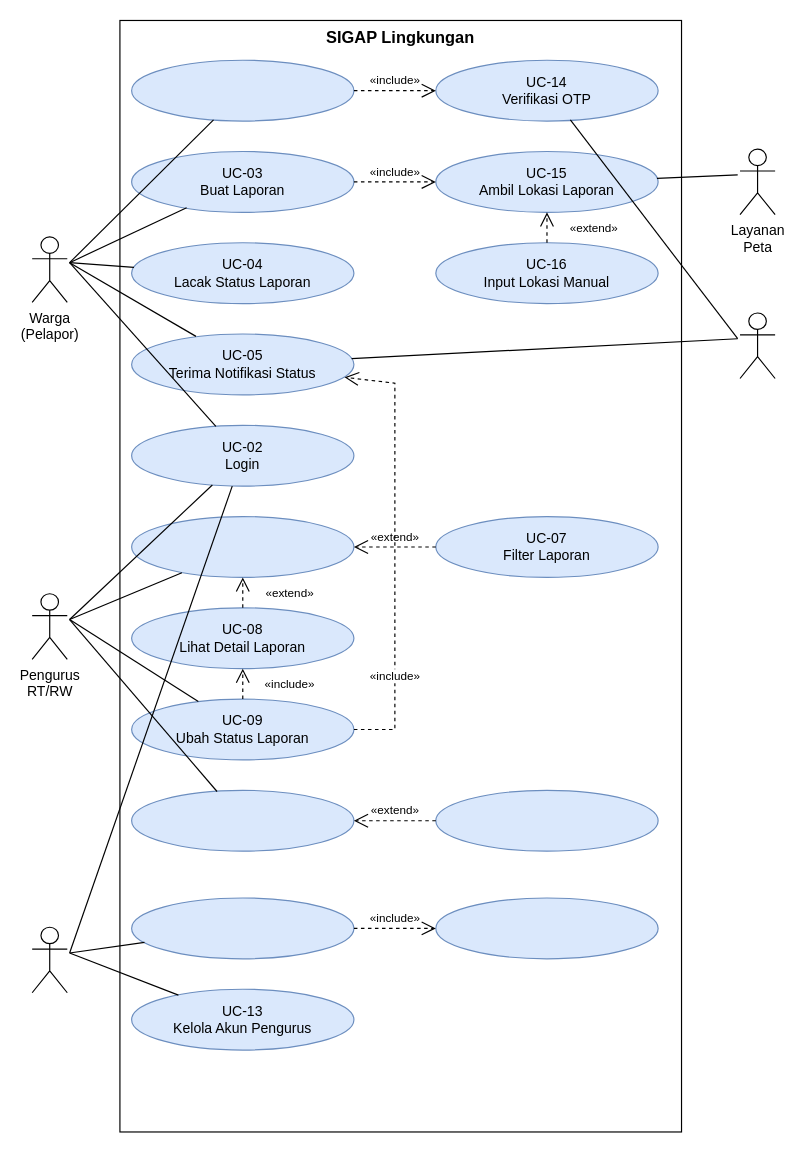
The diagram is 810 pixels wide and 1152 high, and some of its shapes have lost their labels. Each missing label, with the centre of its shape:
Admin Sistem: (x=49, y=959)
Layanan SMS/OTP: (x=757, y=345)
UC-01 Daftar Akun: (x=242, y=90)
UC-06 Lihat Daftar Laporan: (x=242, y=546)
UC-10 Lihat Rekap Laporan: (x=242, y=820)
UC-11 Ekspor Rekap Laporan: (x=546, y=820)
UC-12 Lihat Data Pelapor Asli: (x=242, y=928)
UC-17 Catat Audit Log: (x=546, y=928)
